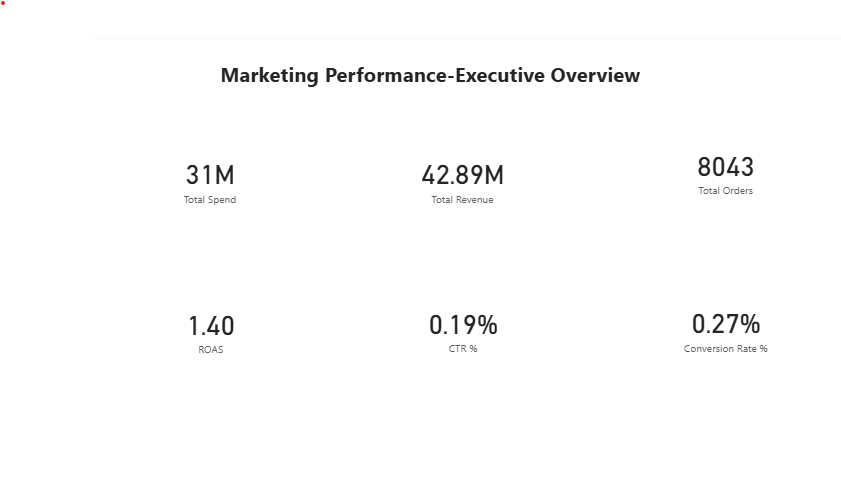

The page's visual inventory and layout, read from the dashboard file:
{"tool":"powerbi","page":{"name":"Executive Overview ","canvas":[1280,720],"ordinal":0},"visuals":[{"type":"textbox","box":[11.4,0,925.7,48.6],"z":0},{"type":"card","fields":{"Values":["MarketingData.Total Spend"]},"box":[79.5,107.9,321.9,242.4],"z":1000},{"type":"card","fields":{"Values":["MarketingData.Total Orders"]},"box":[889.9,100.4,327.6,227.2],"z":2000},{"type":"card","fields":{"Values":["MarketingData.CTR %"]},"box":[477.2,340.8,325.7,246.2],"z":3000},{"type":"card","fields":{"Values":["MarketingData.Total Revenue"]},"box":[486.6,117.4,304.9,223.4],"z":4000},{"type":"card","fields":{"Values":["MarketingData.Conversion Rate %"]},"box":[874.8,327.6,359.8,270.8],"z":5000},{"type":"card","fields":{"Values":["MarketingData.ROAS"]},"box":[72,359.8,337,212.1],"z":6000}]}

Visuals, with their boxes in screenshot pixels (x1, y1, x2, y2), scaled from the page's 1280x720 canvas onto the 841x483 screenshot:
textbox: {"left": 7, "top": 0, "right": 616, "bottom": 33}
card - MarketingData.Total Spend: {"left": 52, "top": 72, "right": 264, "bottom": 235}
card - MarketingData.Total Orders: {"left": 585, "top": 67, "right": 800, "bottom": 220}
card - MarketingData.CTR %: {"left": 314, "top": 229, "right": 528, "bottom": 394}
card - MarketingData.Total Revenue: {"left": 320, "top": 79, "right": 520, "bottom": 229}
card - MarketingData.Conversion Rate %: {"left": 575, "top": 220, "right": 811, "bottom": 401}
card - MarketingData.ROAS: {"left": 47, "top": 241, "right": 269, "bottom": 384}
